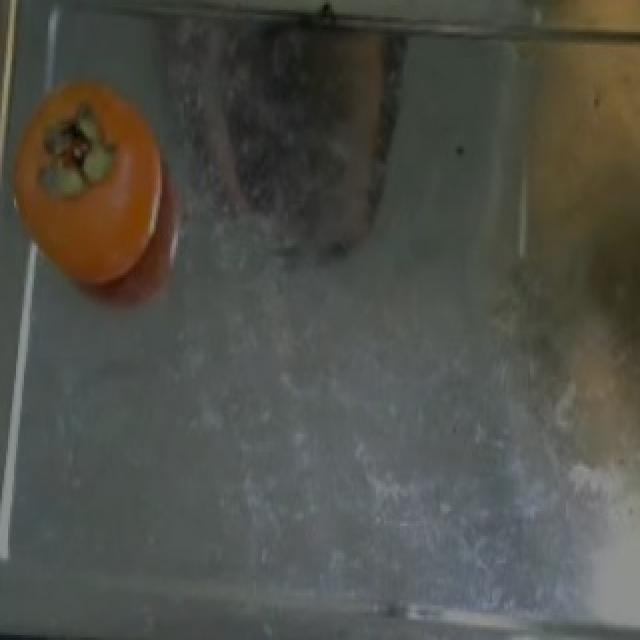Fruit: (2, 55, 174, 300), (472, 0, 640, 67)
